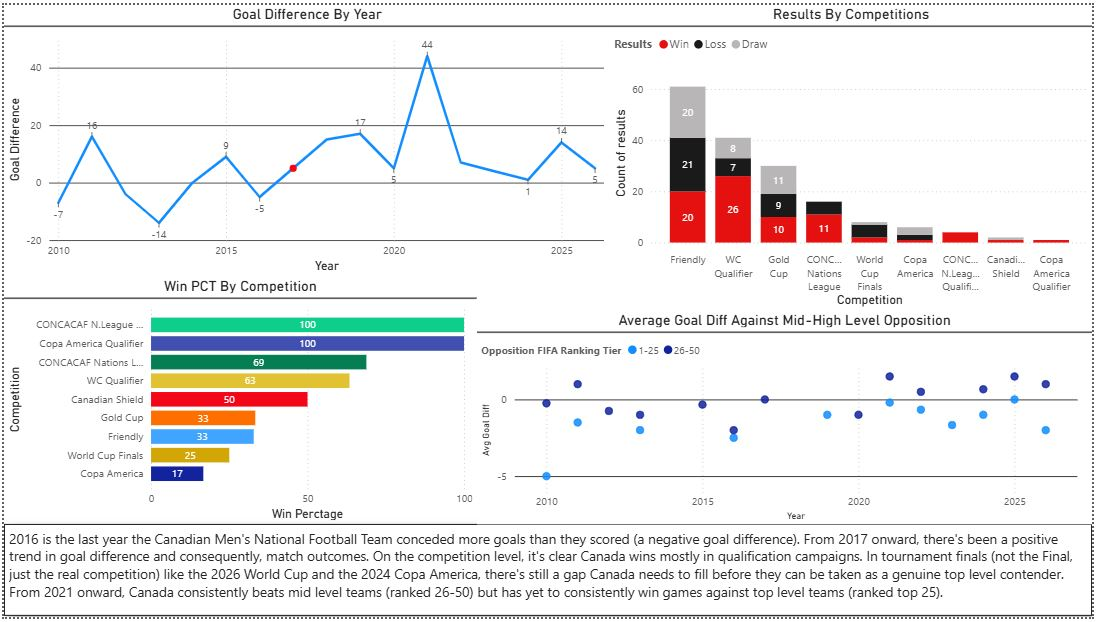

What the dashboard file says about the page in this screenshot:
{"tool":"powerbi","page":{"name":"Team Performance","canvas":[1280,720],"ordinal":1},"visuals":[{"type":"lineChart","title":"Goal Difference By Year","fields":{"Y":["Sum(yearly_summary.goal_diff)"],"Category":["yearly_summary.match_year"]},"box":[0,0,713.3,319.6],"z":0},{"type":"columnChart","title":"Results By Competitions","fields":{"Category":["Canada_Matches.competition"],"Series":["Canada_Matches.results"],"Y":["CountNonNull(Canada_Matches.results)"]},"box":[712.8,0,567.2,359.8],"z":1000},{"type":"barChart","title":"Win PCT By Competition","fields":{"Category":["competition_comparison.competition"],"Y":["Sum(competition_comparison.win_pct)"],"Series":["competition_comparison.competition"]},"box":[0,320,556.2,291.2],"z":2000},{"type":"textbox","box":[0,643.9,1280,75.7],"z":3000},{"type":"textbox","box":[0,611.2,1280,108.5],"z":4000},{"type":"scatterChart","title":"Average Goal Diff Against Mid-High Level Opposition","fields":{"X":["results_vs_opponent_strength.match_date.Variation.Date Hierarchy.Year","results_vs_opponent_strength.match_date.Variation.Date Hierarchy.Quarter","results_vs_opponent_strength.match_date.Variation.Date Hierarchy.Month","results_vs_opponent_strength.match_date.Variation.Date Hierarchy.Day"],"Y":["Avg(results_vs_opponent_strength.goal_diff)"],"Series":["results_vs_opponent_strength.opponent_tier"]},"box":[556.2,359.8,723.8,251.3],"z":5000}]}

Visuals, with their boxes in screenshot pixels (x1, y1, x2, y2), scaled from the page's 1280x720 canvas onto the 1096x622 screenshot:
"Goal Difference By Year" lineChart: l=0, t=0, r=611, b=276
"Results By Competitions" columnChart: l=610, t=0, r=1095, b=311
"Win PCT By Competition" barChart: l=0, t=276, r=476, b=528
textbox: l=0, t=556, r=1095, b=621
textbox: l=0, t=528, r=1095, b=621
"Average Goal Diff Against Mid-High Level Opposition" scatterChart: l=476, t=311, r=1095, b=528
